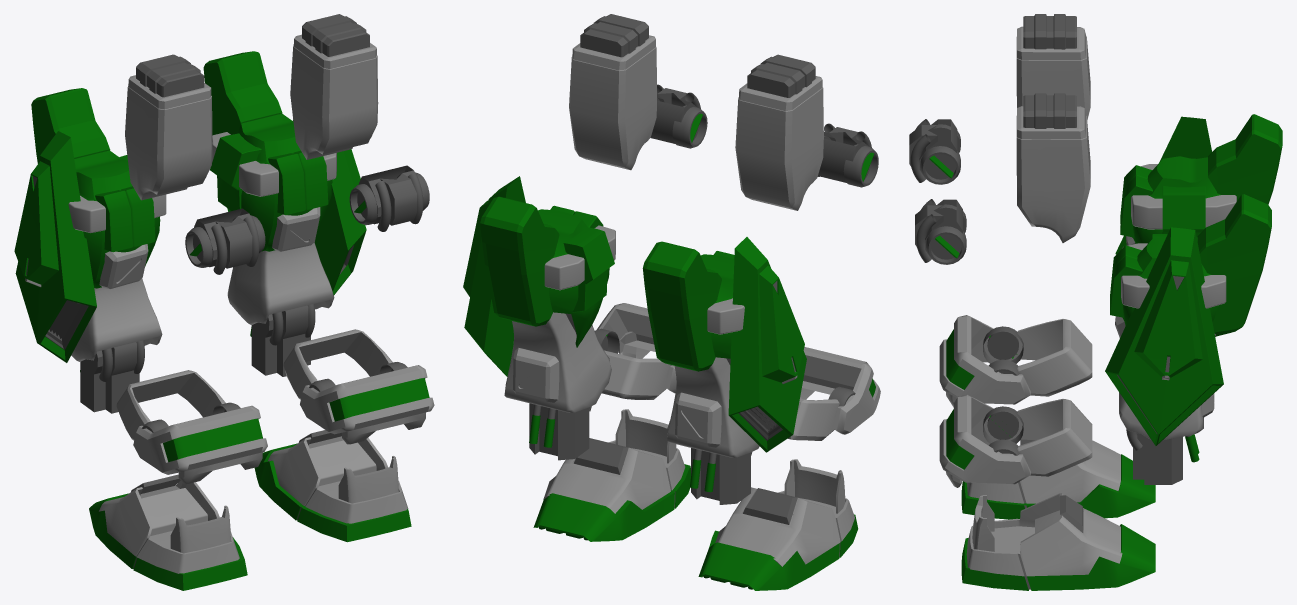
File: Cardigan Legs.fbx
The picture shows the model from 3 angles, left to right: view 1: azimuth 30°, elevation 25°; view 2: azimuth 150°, elevation 25°; view 3: azimuth 270°, elevation 25°; orthographic projection. The views are drawn at different scales.
Visible parts, largest first — view 1: polySurface75, polySurface74, polySurface119, Left_Foot_Cover, Right_Foot_Cover, polySurface61, polySurface60, polySurface116, polySurface92, polySurface117, polySurface97, polySurface118 (+27 smaller); view 2: polySurface75, polySurface74, polySurface93, polySurface92, polySurface119, polySurface116, Left_Foot_Cover, Right_Foot_Cover, Right_Foot, Left_Foot, polySurface97, polySurface117 (+27 smaller); view 3: polySurface118, Right_Foot_Cover, polySurface74, polySurface92, polySurface96, polySurface60, polySurface61, polySurface93, Right_Foot, polySurface59, polySurface58, Left_Foot_Cover (+22 smaller).
Part boxes in pixels (x1=…): polySurface75: x1=125, y1=75, x2=212, y2=200; polySurface74: x1=290, y1=34, x2=378, y2=159; polySurface119: x1=15, y1=131, x2=96, y2=362; Left_Foot_Cover: x1=99, y1=480, x2=239, y2=573; Right_Foot_Cover: x1=267, y1=436, x2=408, y2=523; polySurface61: x1=133, y1=405, x2=267, y2=474; polySurface60: x1=300, y1=365, x2=434, y2=434; polySurface116: x1=227, y1=242, x2=334, y2=324; polySurface92: x1=203, y1=51, x2=282, y2=135; polySurface117: x1=71, y1=278, x2=162, y2=361; polySurface97: x1=14, y1=161, x2=58, y2=287; polySurface118: x1=293, y1=119, x2=366, y2=295; polySurface75: x1=735, y1=76, x2=823, y2=210; polySurface74: x1=569, y1=35, x2=656, y2=170; polySurface93: x1=642, y1=241, x2=721, y2=371; polySurface92: x1=480, y1=196, x2=559, y2=326; polySurface119: x1=728, y1=237, x2=806, y2=452; polySurface116: x1=504, y1=312, x2=611, y2=412; Left_Foot_Cover: x1=715, y1=487, x2=854, y2=566; Right_Foot_Cover: x1=543, y1=440, x2=685, y2=513; Right_Foot: x1=533, y1=464, x2=690, y2=541; Left_Foot: x1=698, y1=514, x2=858, y2=590; polySurface97: x1=759, y1=265, x2=804, y2=384; polySurface117: x1=667, y1=357, x2=759, y2=457; polySurface118: x1=1105, y1=227, x2=1223, y2=445; Right_Foot_Cover: x1=966, y1=493, x2=1122, y2=576; polySurface74: x1=1016, y1=106, x2=1090, y2=242; polySurface92: x1=1197, y1=194, x2=1271, y2=336; polySurface96: x1=1134, y1=260, x2=1202, y2=380; polySurface60: x1=939, y1=394, x2=1030, y2=484; polySurface61: x1=939, y1=315, x2=1030, y2=404; polySurface93: x1=1208, y1=114, x2=1282, y2=204; Right_Foot: x1=961, y1=524, x2=1155, y2=590; polySurface59: x1=1017, y1=319, x2=1092, y2=396; polySurface58: x1=1017, y1=399, x2=1092, y2=476; Left_Foot_Cover: x1=967, y1=439, x2=1120, y2=503.
Size of the model in its own units: 22.95 by 32.59 by 23.18.
